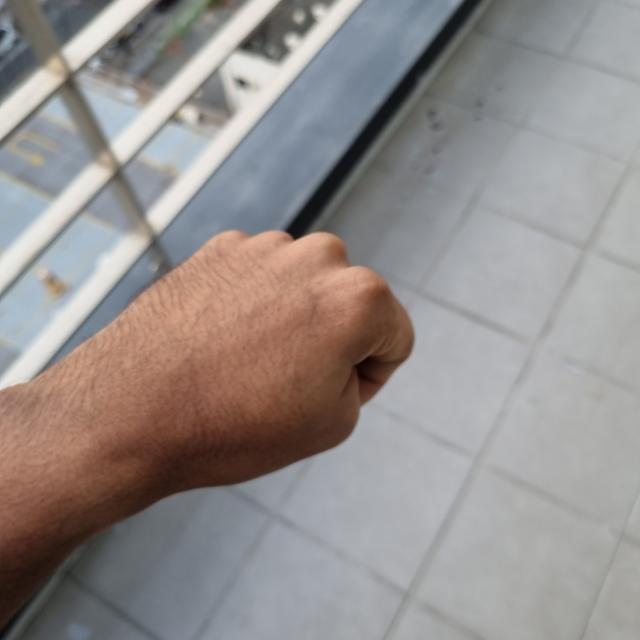Rock: (77, 225, 412, 484)
